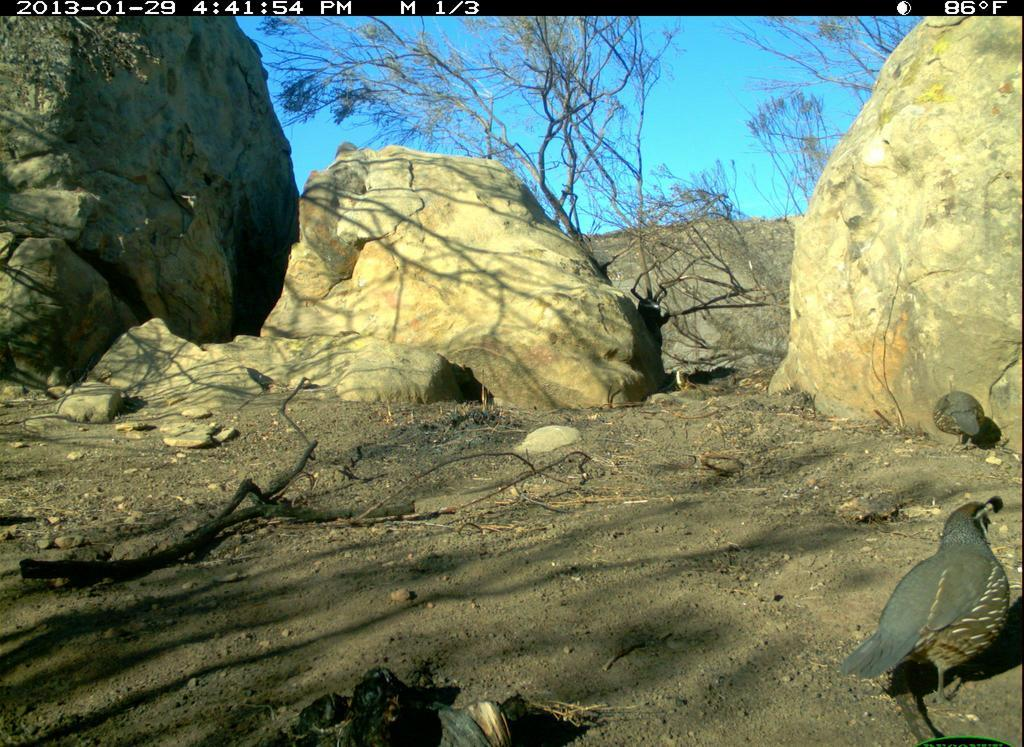bird: (840, 488, 1021, 710), (926, 386, 994, 456)
